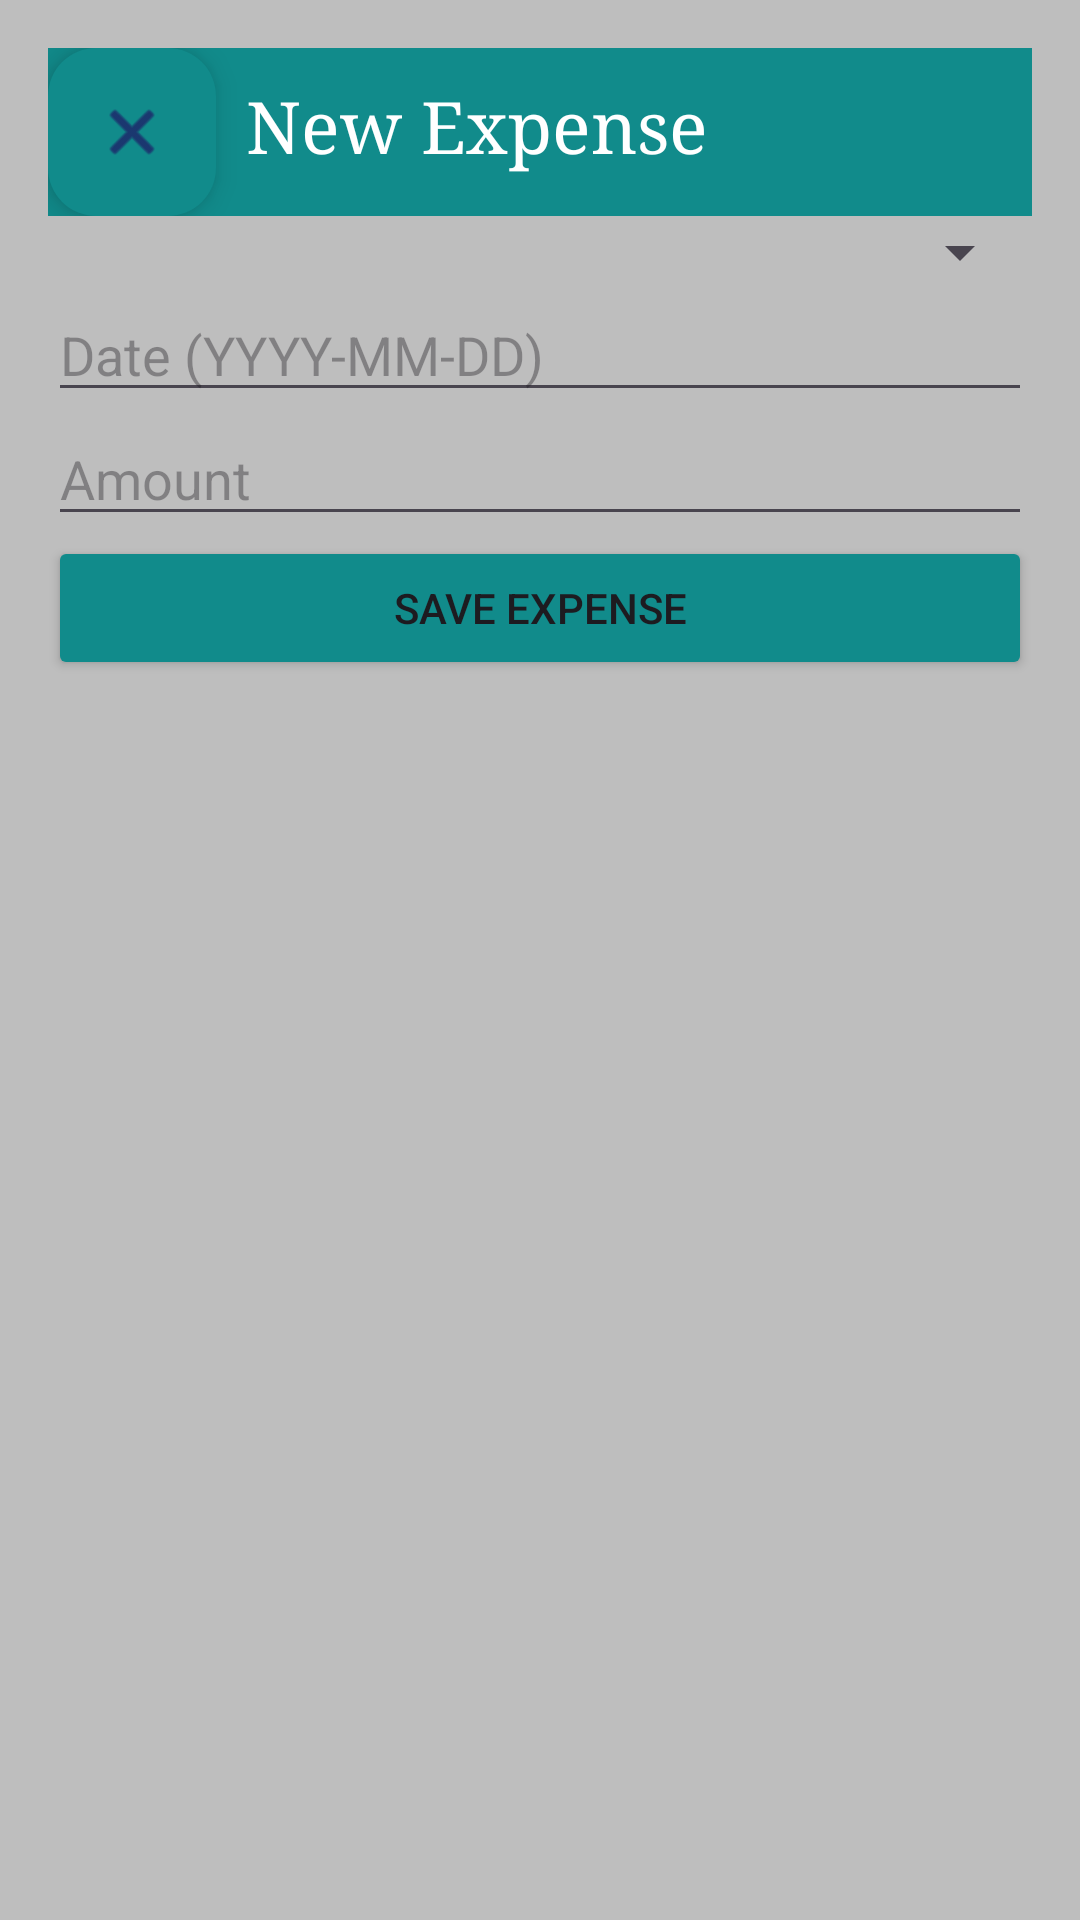

Icons on this 1080×1920 Android screen, each with its box as bbox(x1, y1, x2, y2):
close clear cancel: bbox(48, 48, 216, 216)
